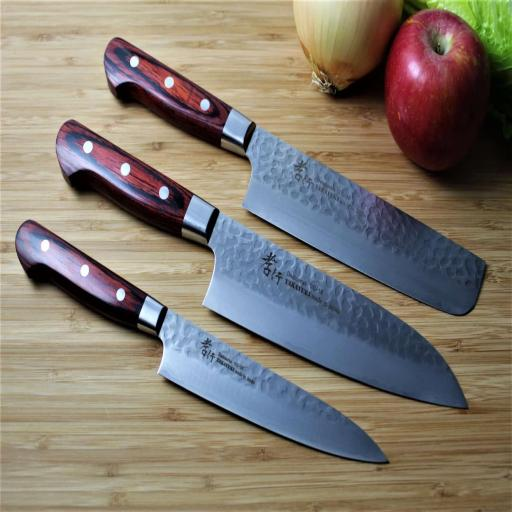knife: (36, 114, 469, 428)
